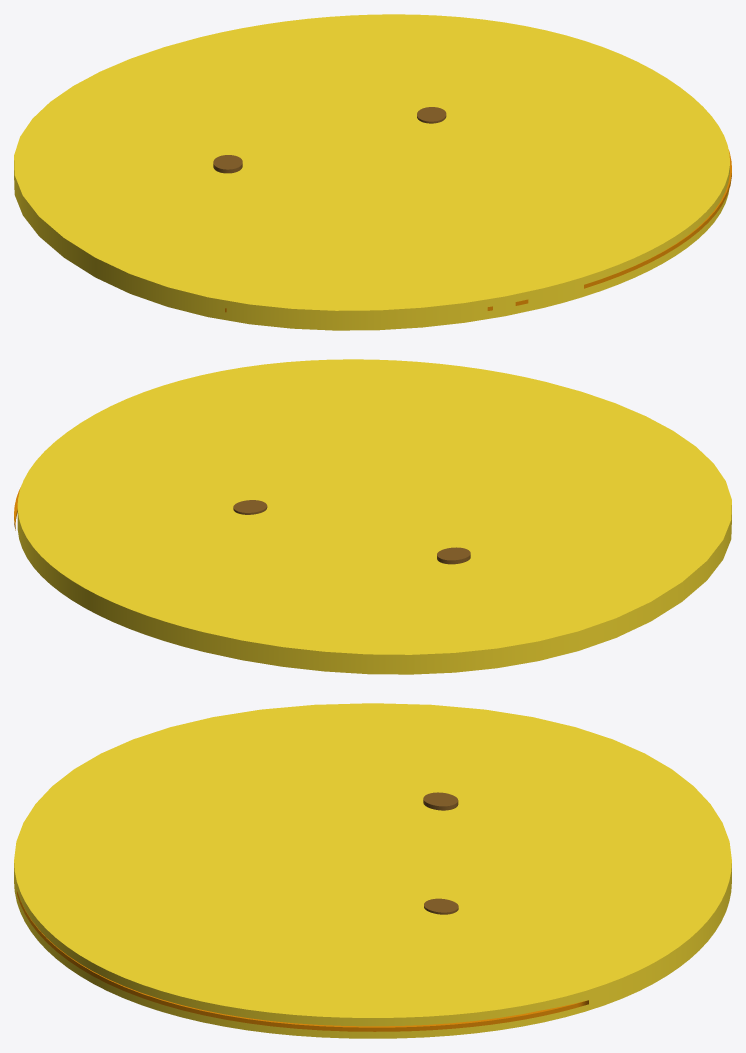
File: emoji_u1fae4.glb
3 renders of one model, top to bottom at view 1: azimuth 30°, elevation 25°; view 2: azimuth 150°, elevation 25°; view 3: azimuth 270°, elevation 25°, orthographic. The views are drawn at different scales.
Parts seen in each view (by area): view 1: emoji_u1fae4; view 2: emoji_u1fae4; view 3: emoji_u1fae4.
Part boxes in pixels (left/top/right/bottom): emoji_u1fae4: left=14, top=14, right=731, bottom=330; emoji_u1fae4: left=14, top=359, right=731, bottom=674; emoji_u1fae4: left=14, top=703, right=731, bottom=1038.
Bounding box in the file's own units: 0.0327 × 0.0014 × 0.0314.
